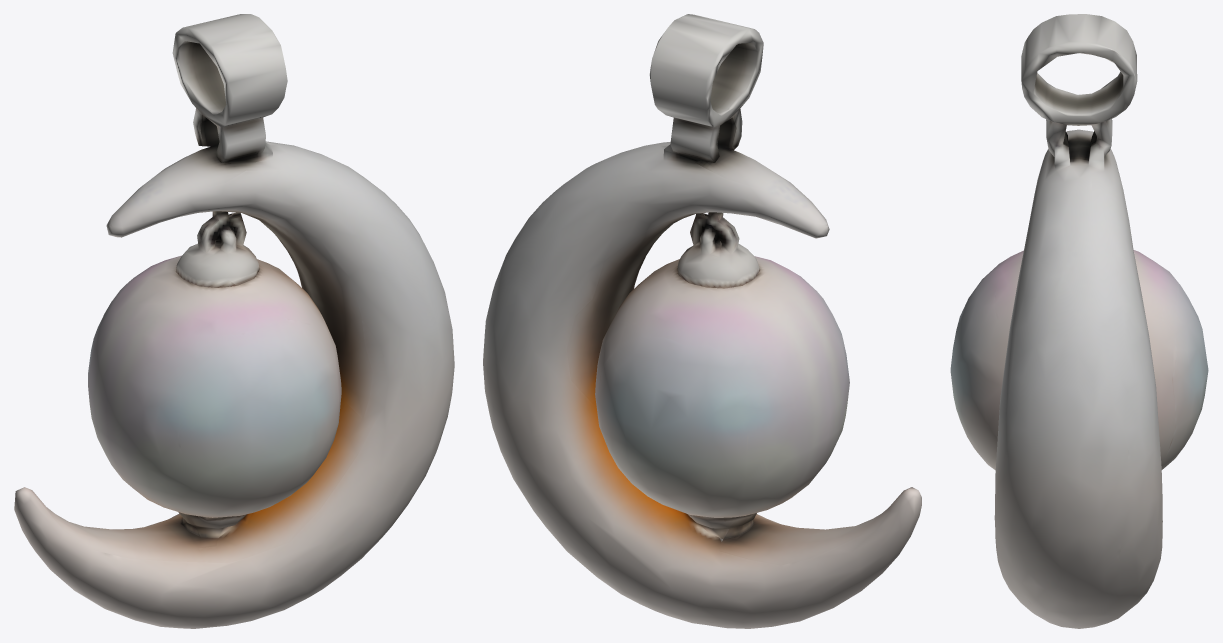
The picture shows the model from 3 angles, left to right: view 1: azimuth 30°, elevation 25°; view 2: azimuth 150°, elevation 25°; view 3: azimuth 270°, elevation 25°; orthographic projection.
Visible parts, largest first — view 1: pendant-moonveil; view 2: pendant-moonveil; view 3: pendant-moonveil.
Part boxes in pixels (<box>): pendant-moonveil: <box>14,14,454,628</box>; pendant-moonveil: <box>483,14,921,628</box>; pendant-moonveil: <box>950,14,1208,628</box>.
Bounding box in the file's own units: 0.1523 × 0.2016 × 0.0815.
Materials: 1 (1 with a texture image).
